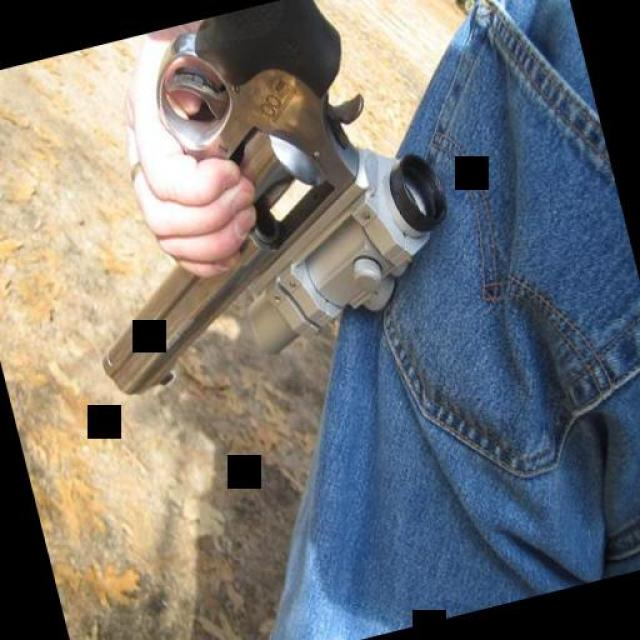gun: (24, 0, 471, 399)
